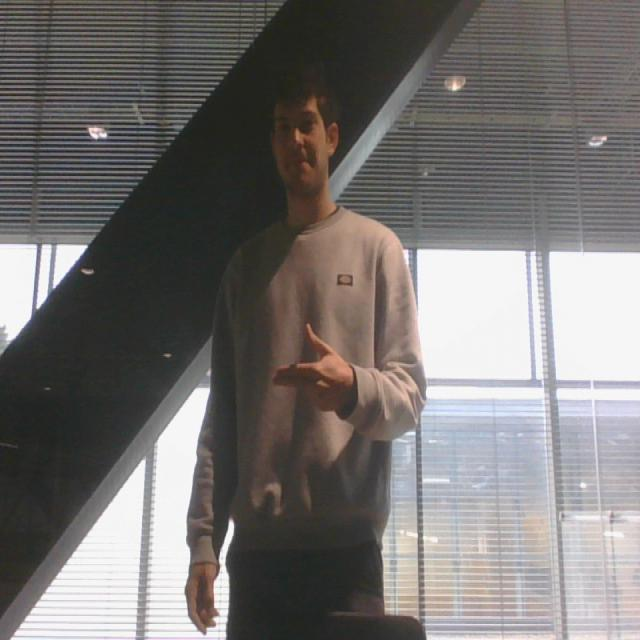left: (268, 316, 363, 418)
